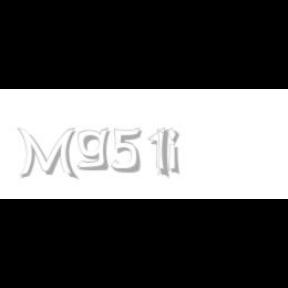1: (147, 128, 169, 176)
5: (110, 128, 142, 174)
M: (18, 128, 76, 180)
g: (76, 128, 114, 171)
i: (167, 128, 183, 176)
l: (157, 128, 173, 180)
